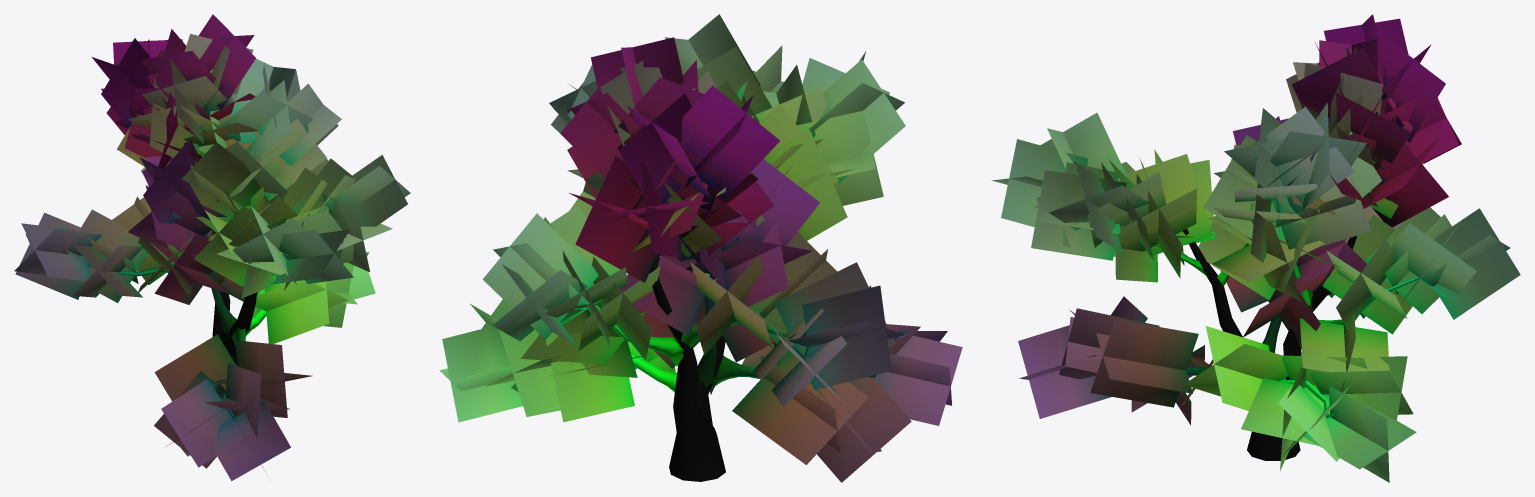
File: URP_P11_Tree_9_LOD_2.fbx
3 views of the same model, side by side, from view 1: azimuth 30°, elevation 25°; view 2: azimuth 150°, elevation 25°; view 3: azimuth 270°, elevation 25° (orthographic). The views are drawn at different scales.
Parts seen in each view (by area): view 1: Tree_9_LOD_2; view 2: Tree_9_LOD_2; view 3: Tree_9_LOD_2.
Boxes of the visible parts, bbox=[...] form: Tree_9_LOD_2: bbox=[14, 14, 410, 481]; Tree_9_LOD_2: bbox=[439, 14, 962, 482]; Tree_9_LOD_2: bbox=[991, 14, 1520, 482].
Size of the model in its own units: 598 by 603 by 665.
